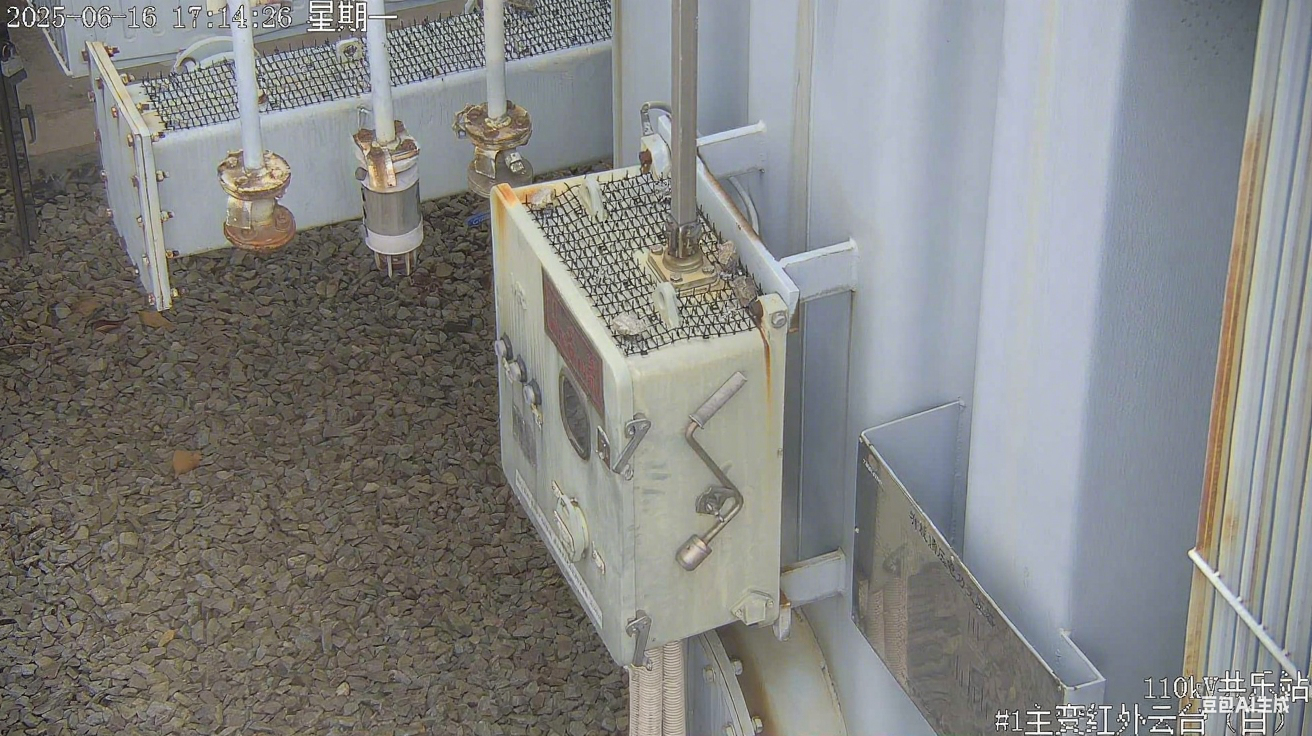HTX: (1171, 106, 1269, 736), (79, 37, 183, 313), (215, 145, 297, 254), (489, 181, 545, 338), (700, 157, 766, 245), (739, 296, 776, 436), (351, 116, 419, 188), (461, 97, 533, 149), (635, 145, 655, 176), (255, 92, 269, 103)
